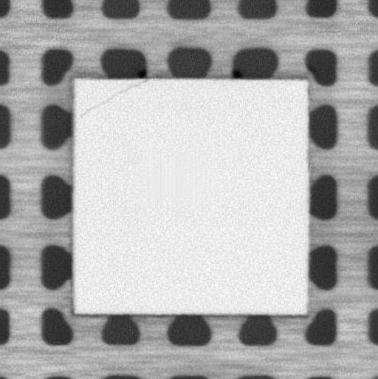DIE_CRACK: (84, 78, 150, 117)
